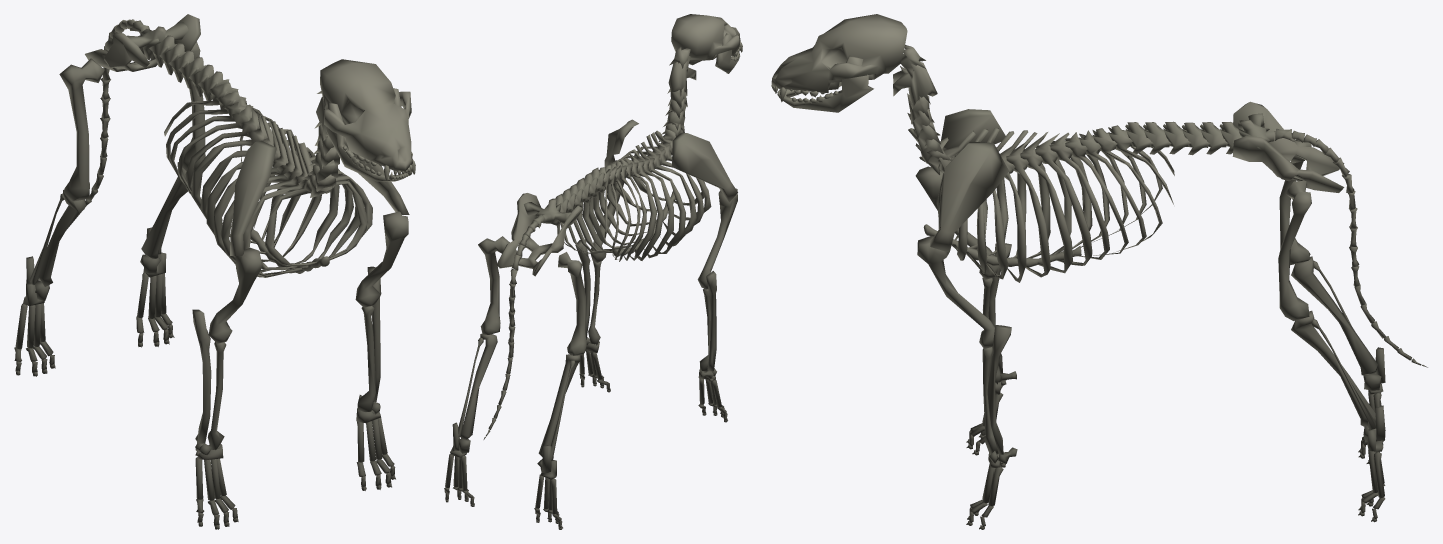
Rendered from Dog skeleton.glb.
3 renders of one model, left to right at view 1: azimuth 30°, elevation 25°; view 2: azimuth 150°, elevation 25°; view 3: azimuth 270°, elevation 25°, orthographic. The views are drawn at different scales.
Visible parts, largest first — view 1: sternum.067, sternum.069, sternum.118, sternum.072, sternum.009, sternum.099, sternum.098, sternum.013, sternum.012, sternum.010, sternum.014, sternum.070 (+18 smaller); view 2: sternum.067, sternum.069, sternum.072, sternum.119, sternum.118, sternum.047, sternum.015, sternum.012, sternum.013, sternum.014, sternum.098, sternum.016 (+17 smaller); view 3: sternum.067, sternum.068, sternum.072, sternum.119, sternum.046, sternum.014, sternum.015, sternum.016, sternum.099, sternum.069, sternum.097, sternum.047 (+14 smaller).
Part boxes in pixels (x1,y1,x2,y2): sternum.067: [320, 59, 412, 172]; sternum.069: [230, 140, 276, 255]; sternum.118: [59, 58, 104, 201]; sternum.072: [85, 14, 200, 71]; sternum.009: [265, 142, 367, 266]; sternum.099: [355, 211, 408, 307]; sternum.098: [208, 247, 262, 343]; sternum.013: [214, 121, 339, 272]; sternum.012: [220, 128, 353, 277]; sternum.010: [243, 135, 372, 270]; sternum.014: [206, 119, 321, 261]; sternum.070: [192, 309, 211, 443]; sternum.067: [671, 14, 740, 61]; sternum.069: [671, 133, 737, 202]; sternum.072: [496, 193, 582, 276]; sternum.119: [478, 236, 509, 334]; sternum.118: [558, 252, 586, 355]; sternum.047: [461, 333, 497, 439]; sternum.015: [582, 153, 663, 260]; sternum.012: [598, 142, 696, 246]; sternum.013: [593, 145, 685, 253]; sternum.014: [589, 149, 673, 258]; sternum.098: [697, 188, 737, 289]; sternum.016: [577, 157, 657, 260]; sternum.067: [771, 14, 907, 92]; sternum.068: [930, 141, 1008, 252]; sternum.072: [1232, 101, 1344, 192]; sternum.119: [1278, 181, 1311, 320]; sternum.046: [1291, 256, 1377, 375]; sternum.014: [1006, 132, 1050, 277]; sternum.015: [1020, 132, 1072, 273]; sternum.016: [1035, 133, 1092, 265]; sternum.099: [917, 235, 995, 348]; sternum.069: [930, 109, 1005, 169]; sternum.097: [783, 55, 873, 112]; sternum.047: [1291, 310, 1375, 426].
Bounding box in the file's own units: 0.5235 × 1.21 × 1.55.
Materials: 1 (1 with a texture image).
